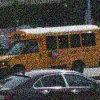buses: (0, 23, 100, 76)
